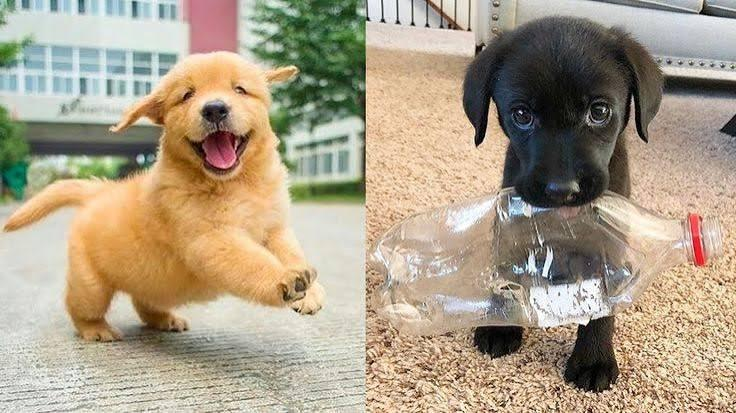puppy-dog: (5, 48, 323, 344), (460, 16, 666, 398)
